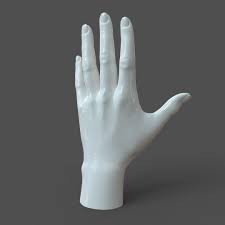hand: (57, 4, 189, 176)
